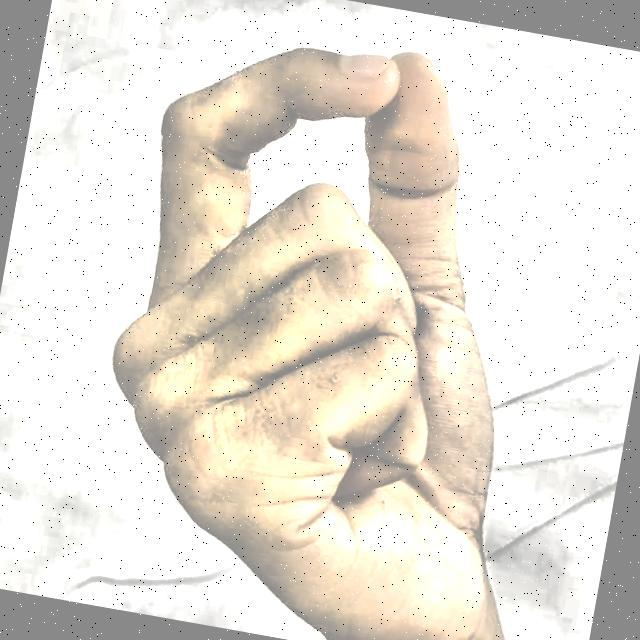Gha: (36, 0, 630, 640)
